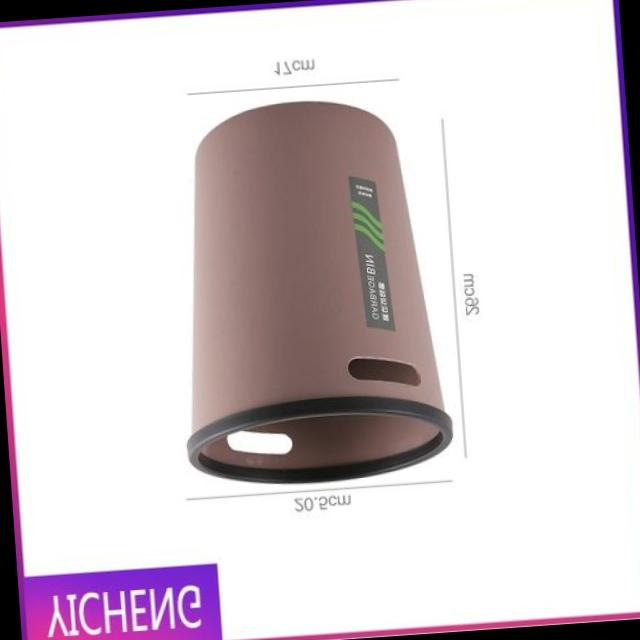dustbin: (160, 83, 458, 496)
